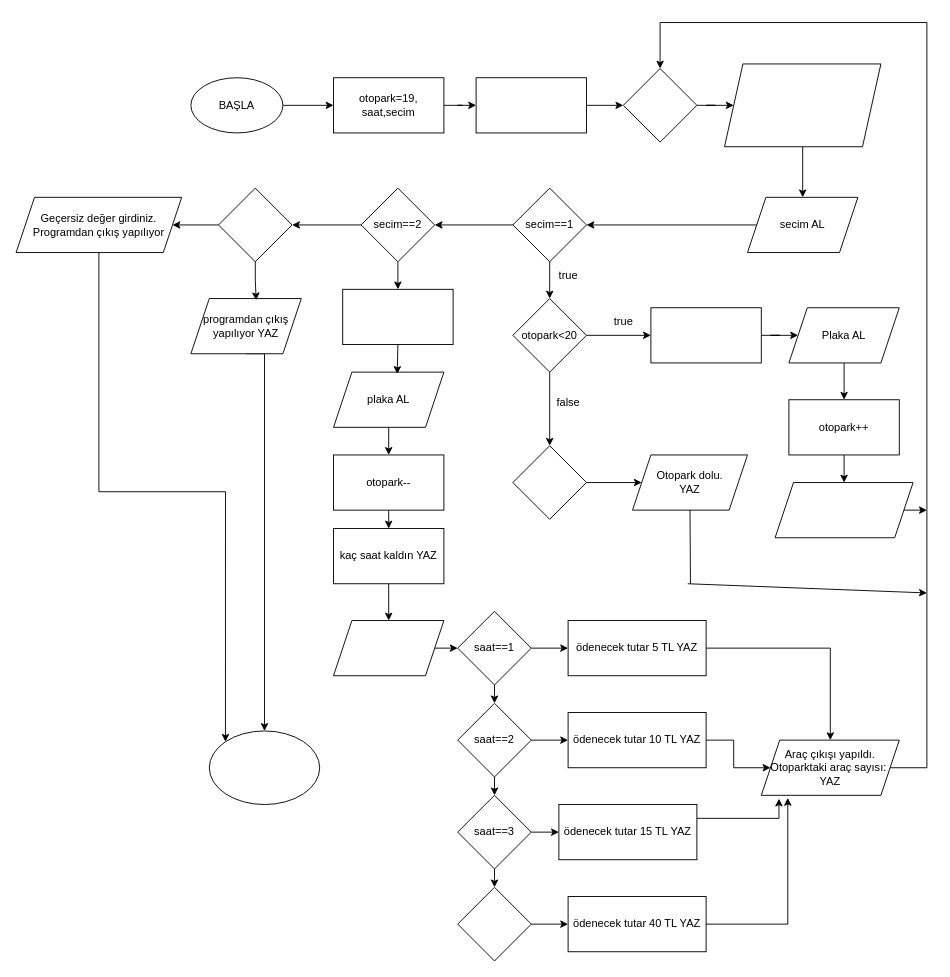
This 950x977 diagram has some shape labels left out. Each missing label, with the centre of its shape:
1-Araç giriş 2-Araç çıkış (-1)-Programdan çıkış Seçiniz: YAZ: [802,105]
Araç girişi yapıldı. O toparktaki araç sayısı: YAZ: [843,510]
DUR: [264,767]
otopark>=20: [549,482]
plaka: [530,105]
plakanızı girin YAZ: [705,335]
plakanızı giriniz YAZ: [397,316]
saat AL: [388,648]
saat>=4: [494,923]
secim==-1: [255,224]
while(true): [659,105]
